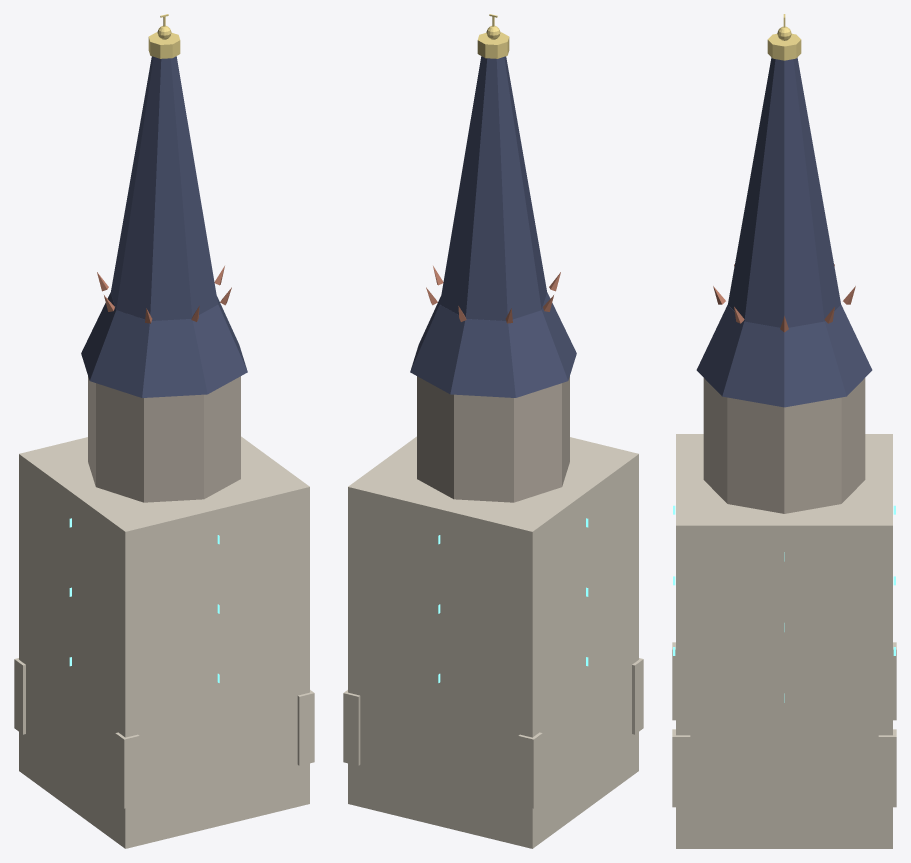
Rendered from church_spire_v18.glb.
3 views of the same model, side by side, from view 1: azimuth 30°, elevation 25°; view 2: azimuth 150°, elevation 25°; view 3: azimuth 270°, elevation 25° (orthographic).
Visible parts, largest first — view 1: Cube, Cone.001, Cylinder, Cone, Cube.001, Cube.002, Cube.003, Cylinder.001; view 2: Cube, Cone.001, Cylinder, Cone, Cube.003, Cube.004, Cube.001, Cylinder.001; view 3: Cube, Cone.001, Cylinder, Cone, Cube.002, Cube.004, Cylinder.001.
Boxes of the visible parts, x1,y1,x2,y2 form: Cube: (19,436,309,848); Cone.001: (110,56,218,320); Cylinder: (88,376,240,502); Cone: (81,292,247,397); Cube.001: (115,732,139,808); Cube.002: (297,690,314,765); Cube.003: (14,658,25,734); Cylinder.001: (148,32,180,58); Cube: (348,436,638,848); Cone.001: (439,56,547,320); Cylinder: (417,376,569,502); Cone: (410,292,576,397); Cube.003: (518,732,542,808); Cube.004: (343,690,360,765); Cube.001: (632,658,643,734); Cylinder.001: (477,32,509,58); Cube: (676,434,892,848); Cone.001: (728,57,840,327); Cylinder: (703,378,865,513); Cone: (696,305,872,407); Cube.002: (672,729,690,807); Cube.004: (878,729,896,807); Cylinder.001: (767,33,801,60).
Bounding box in the file's own units: 4.02 × 15.59 × 4.02.
